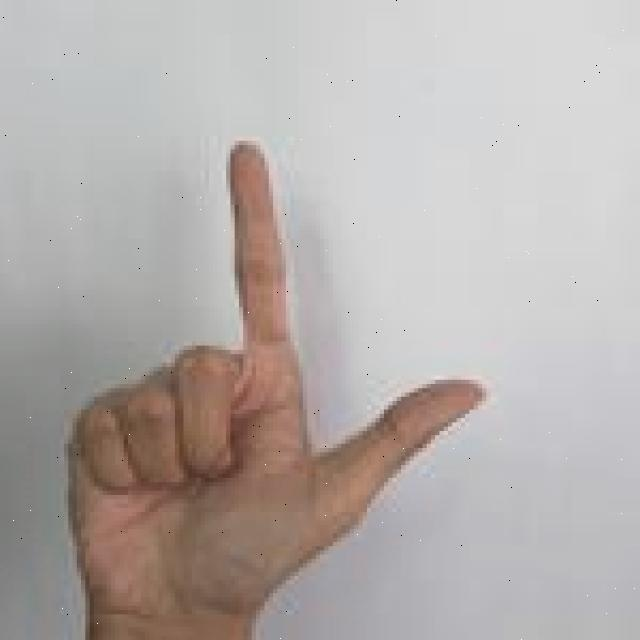L: (56, 126, 494, 640)
